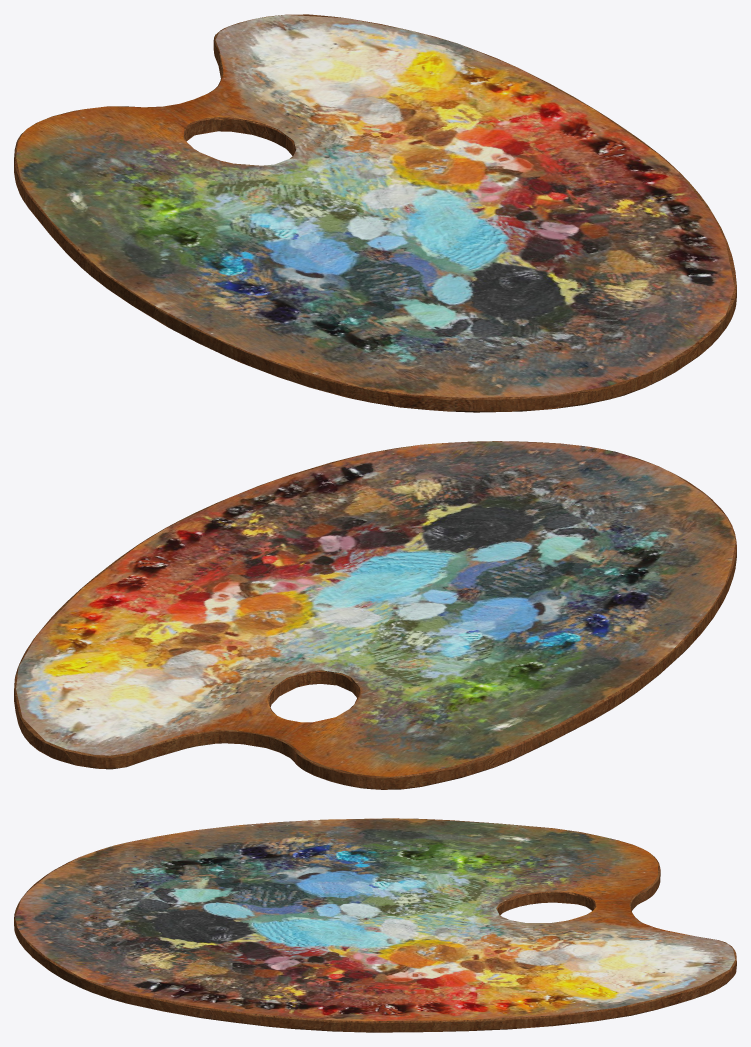
File: Palette.FBX
3 views of the same model, one above another, from view 1: azimuth 30°, elevation 25°; view 2: azimuth 150°, elevation 25°; view 3: azimuth 270°, elevation 25° (orthographic). The views are drawn at different scales.
Visible parts, largest first — view 1: Palette; view 2: Palette; view 3: Palette.
Boxes of the visible parts, x1=… form: Palette: x1=14, y1=14, x2=736, y2=412; Palette: x1=14, y1=441, x2=736, y2=789; Palette: x1=14, y1=818, x2=736, y2=1032.
Size of the model in its own units: 21.21 by 0.5367 by 31.72.
2 materials, 2 textured.
